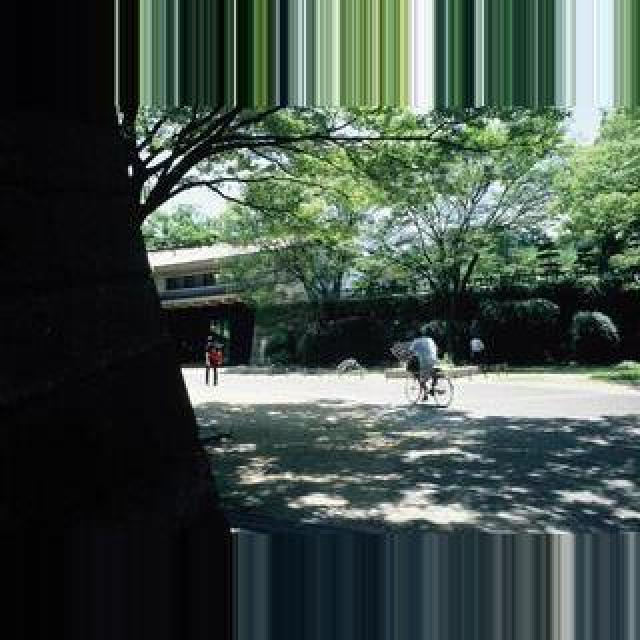Person: (404, 364, 454, 408)
